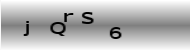6: (109, 25, 123, 40)
Q: (49, 21, 67, 38)
S: (80, 10, 95, 25)
j: (21, 20, 30, 37)
r: (63, 11, 75, 23)
